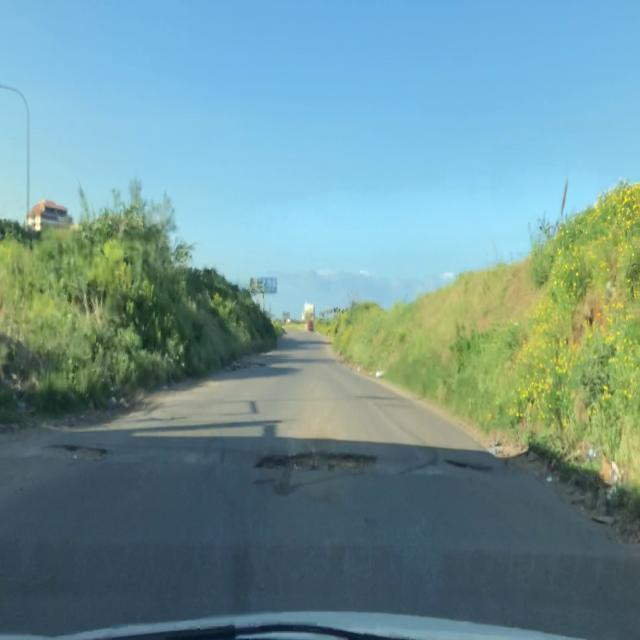Pothole: (249, 441, 384, 482), (39, 438, 111, 474), (441, 449, 498, 482), (220, 358, 266, 372)
